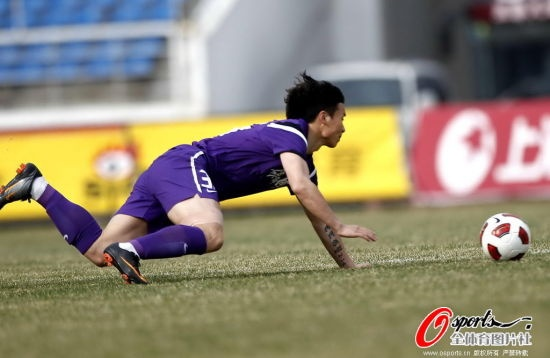falling: (7, 66, 374, 290)
